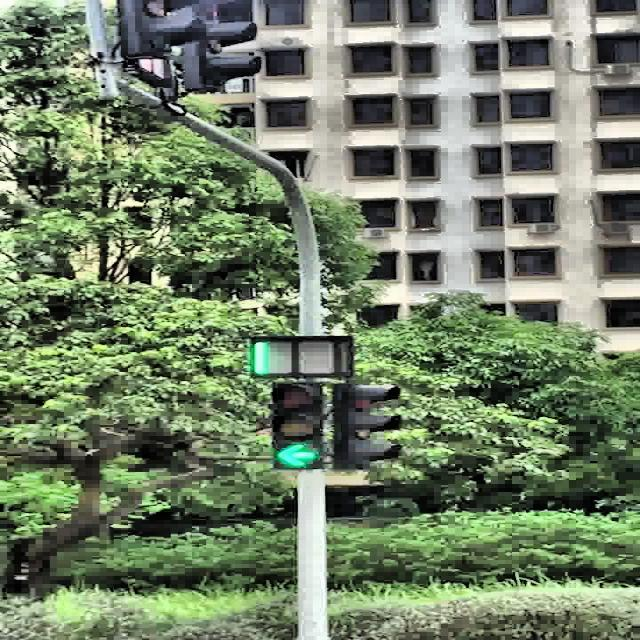green: (274, 381, 322, 469)
